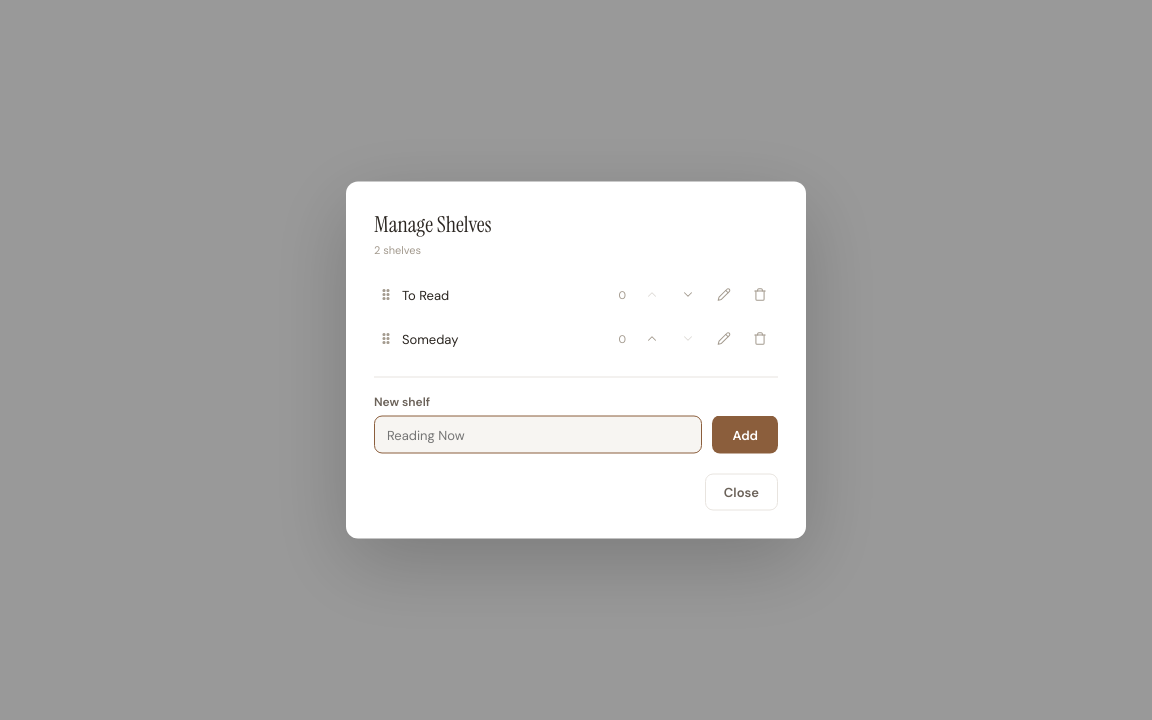
Scenario: ShelfManager › drops a refusal once a later write succeeds
This screenshot has width=1152, height=720.
Expected: the text "Someday" is shown, x1=402 y1=330 x2=458 y2=347
Type "to read" into the field labelled "New shelf" at x=538, y=434, box x1=374 y1=416 x2=702 y2=454
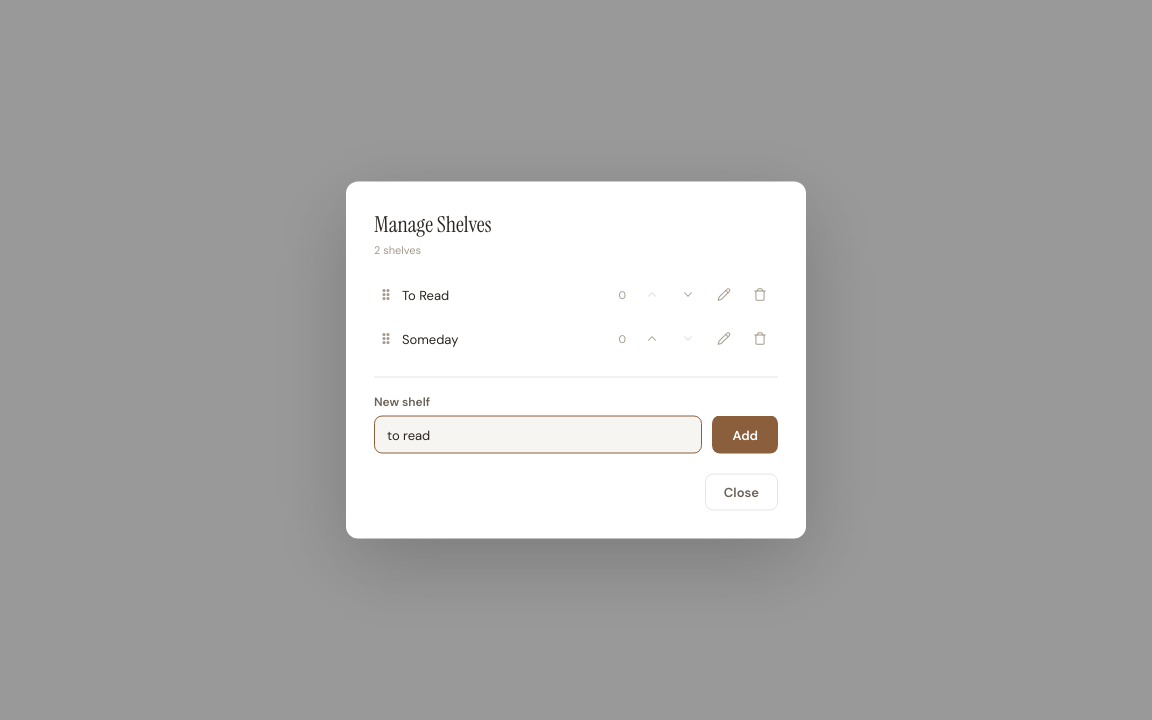
Click the button "Add" at x=745, y=434, box x1=712 y1=416 x2=778 y2=454
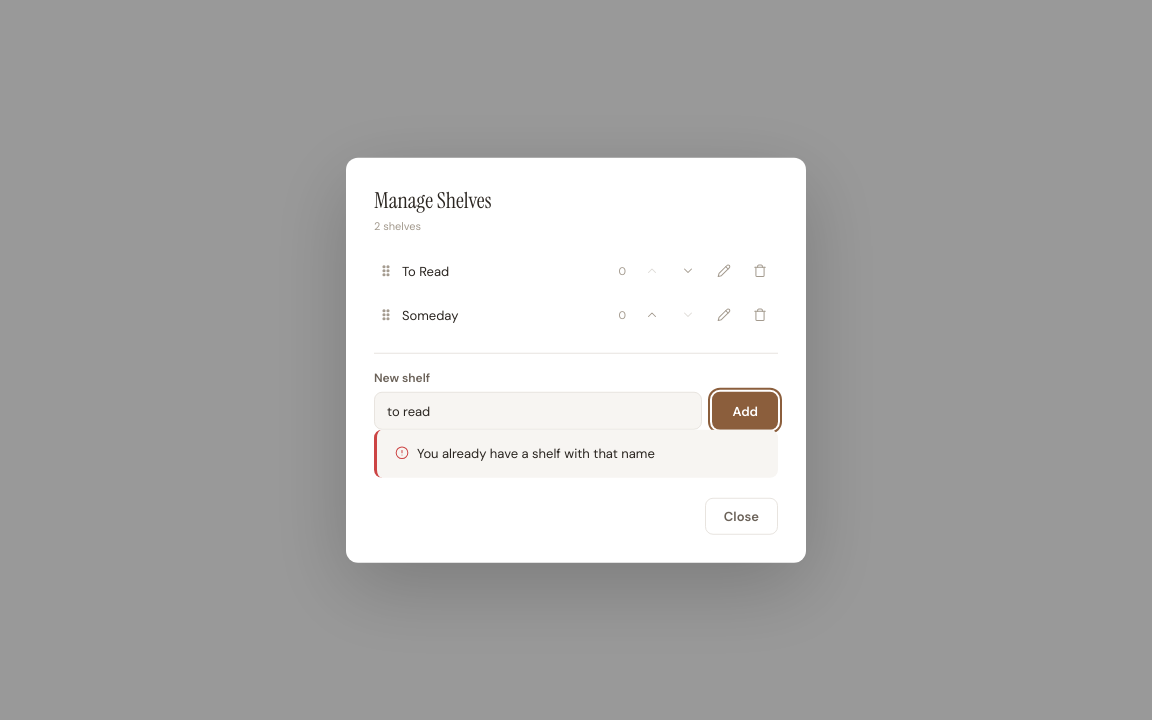
Expected: the message "You already have a shelf with that name" is shown, x1=374 y1=430 x2=778 y2=477
Click the button named "Move To Read down" at x=688, y=271, box x1=674 y1=257 x2=702 y2=285
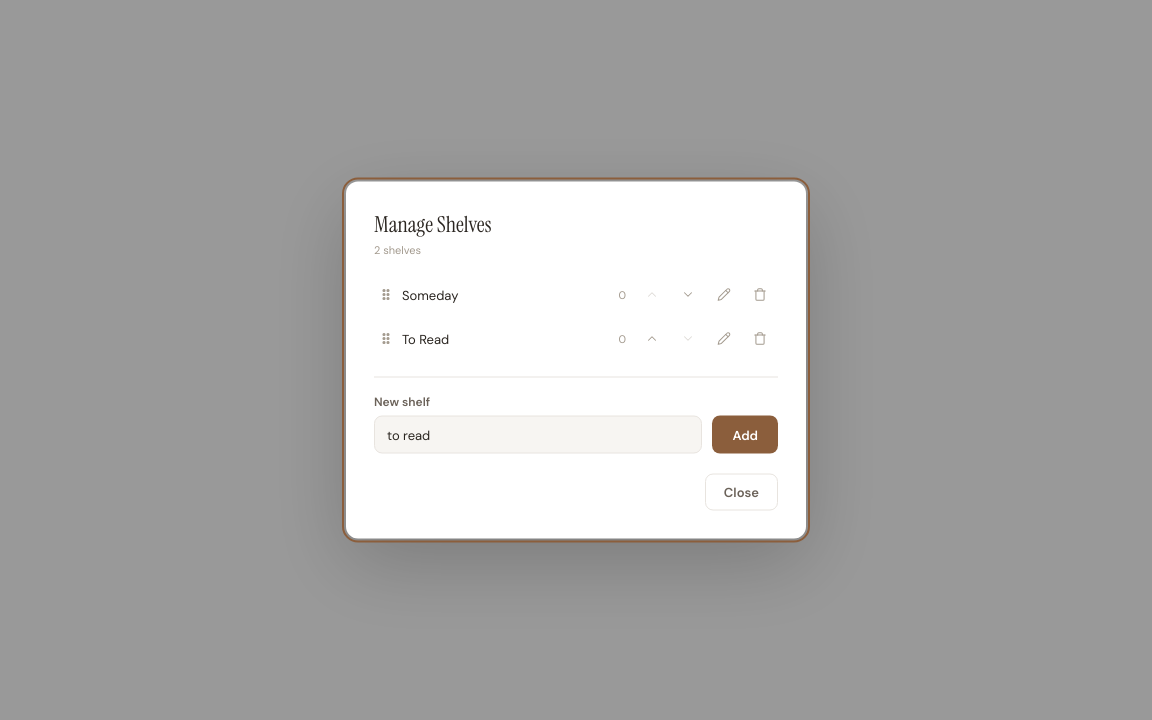
Expected: the message "You already have a shelf with that name" is gone
